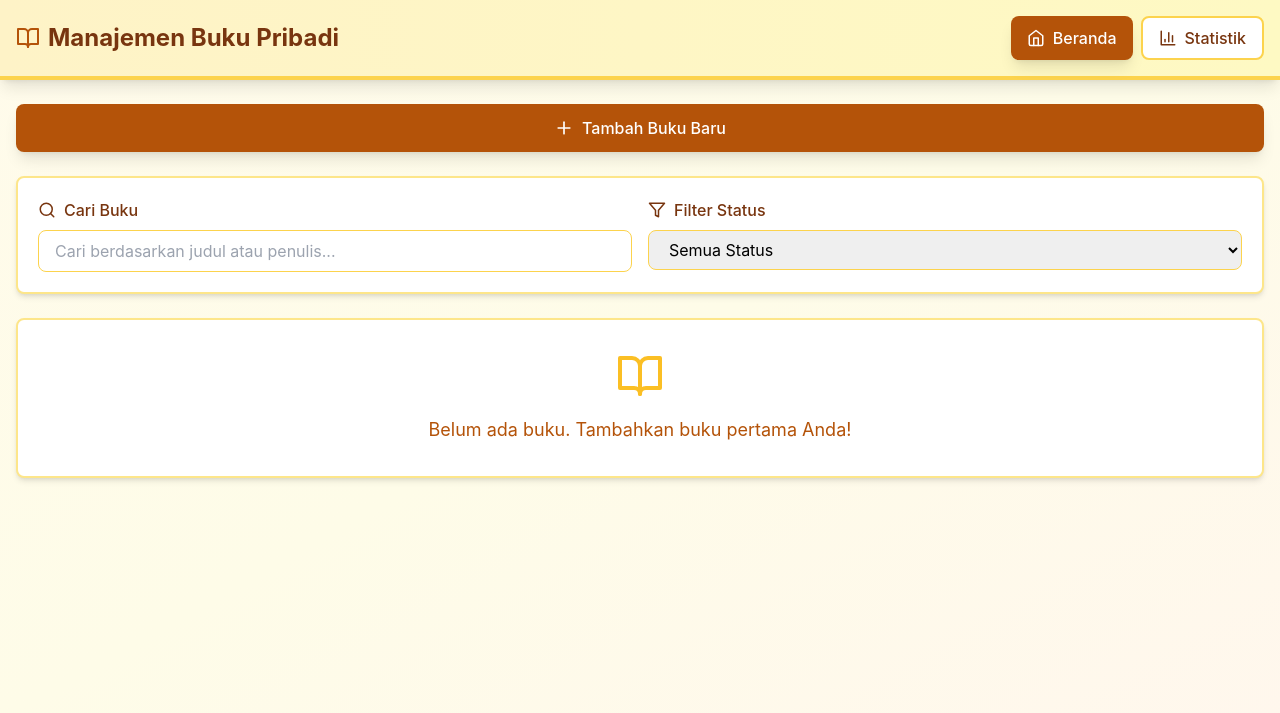
Scenario: validasi form menunjukkan error jika input kosong
# Buka form
Click the button "Tambah Buku Baru". click: {"x": 640, "y": 128}
box: [16,104,1264,152]
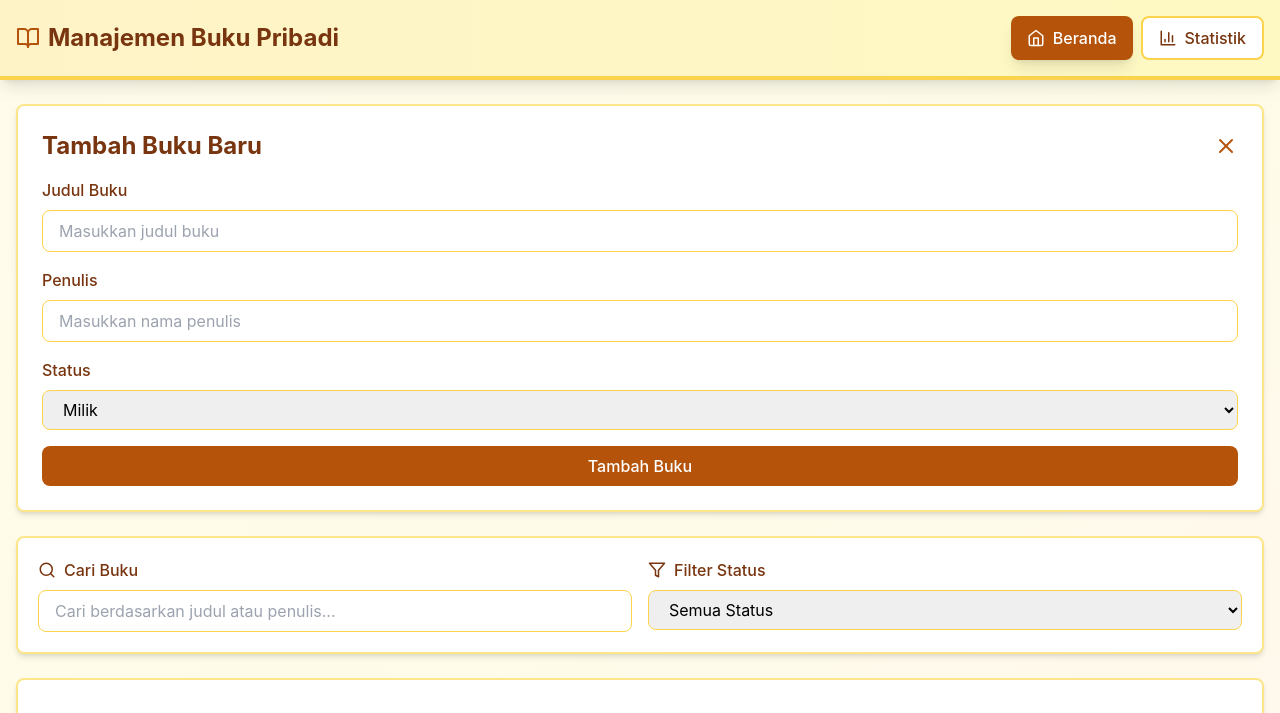
# Klik submit tanpa isi form
Click the button "Tambah Buku". click: {"x": 640, "y": 466}
box: [42,446,1238,486]
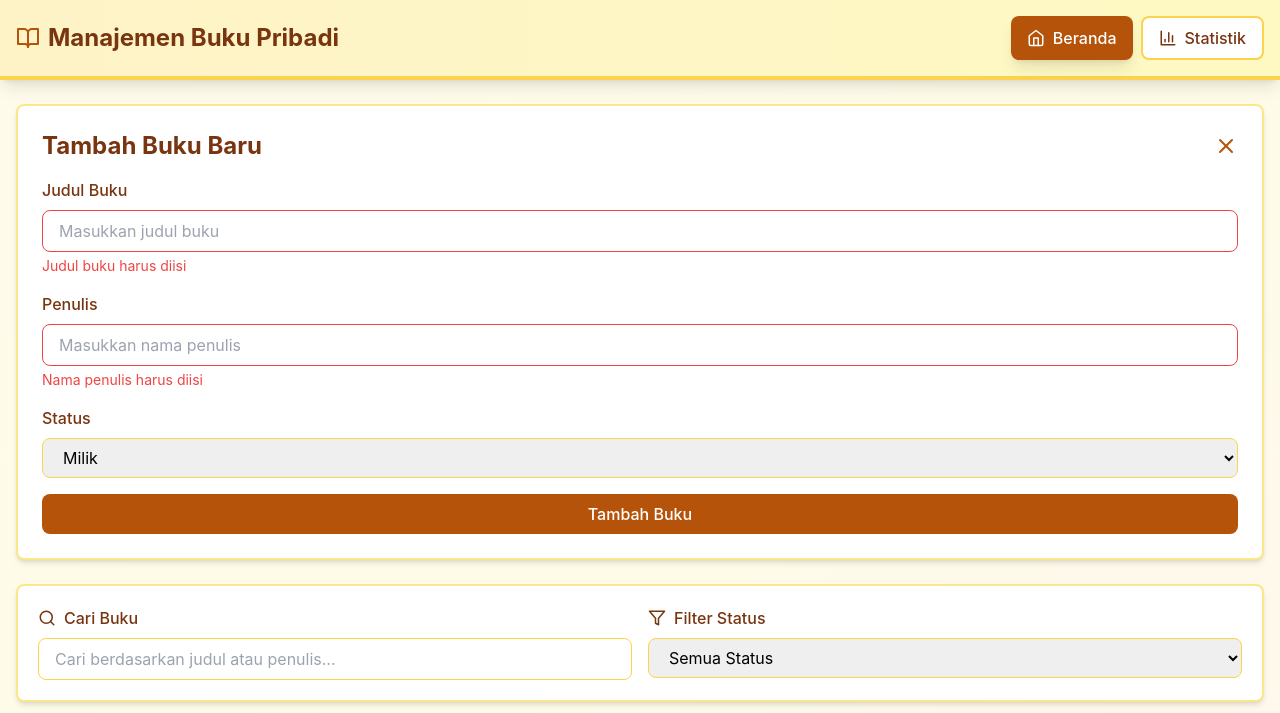
Result: the text "Judul buku harus diisi" is shown at [42,257,186,274]
Result: the text "Nama penulis harus diisi" is shown at [42,371,203,388]
